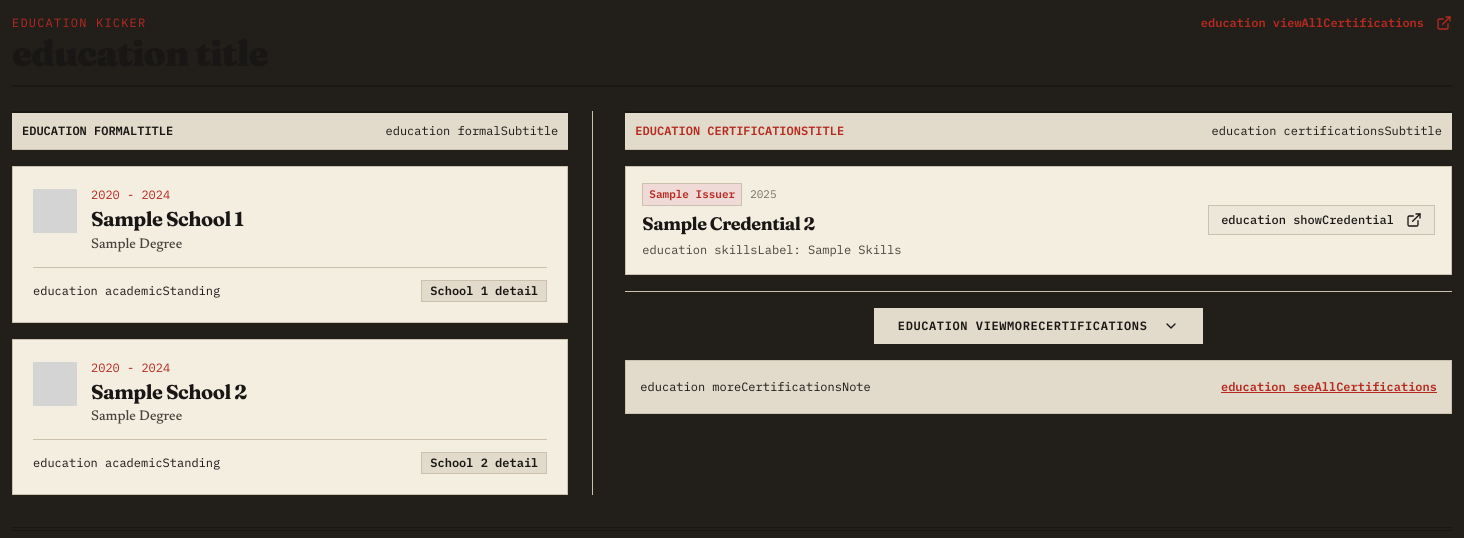
Scenario: interactions › reveals an archived credential independently of formal education
Check: the heading "Sample Credential 1" is not shown
Check: the heading "Sample School 1" is shown, box 91,206 -> 244,231
Click the button "education viewMoreCertifications": (1039,326) 874,308 -> 1203,344
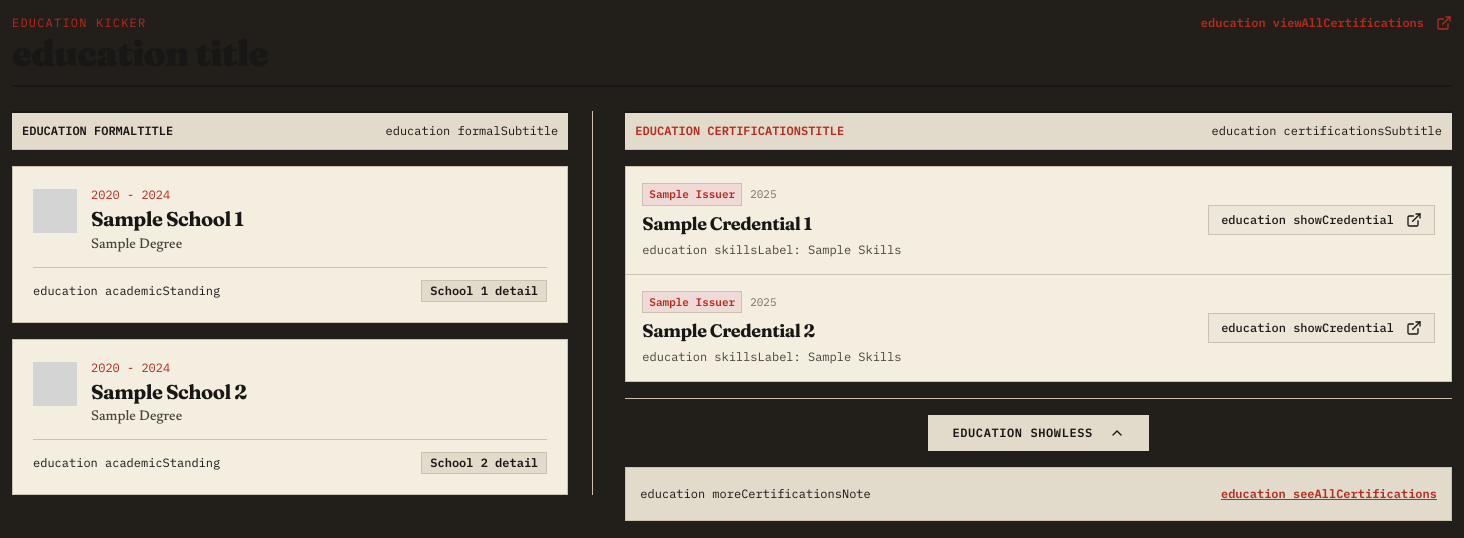
Check: the heading "Sample Credential 1" is shown, box 642,212 -> 812,234
Click the button "education showLess": (1039,433) 928,415 -> 1149,451
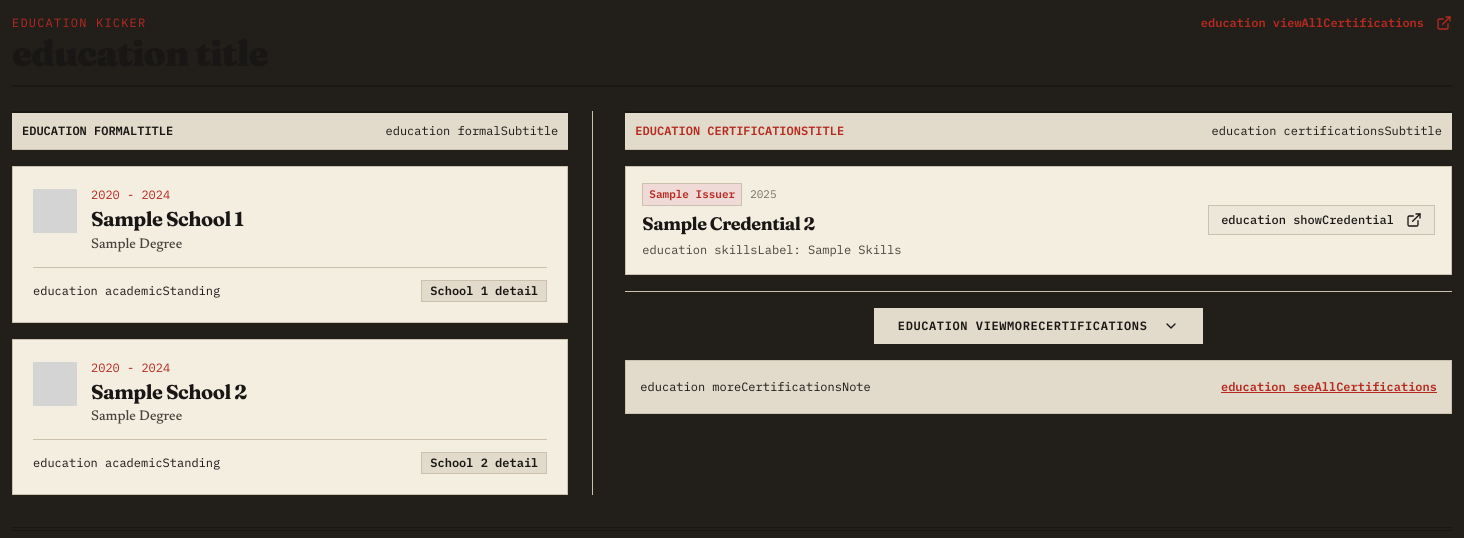
Check: the heading "Sample Credential 1" is gone
